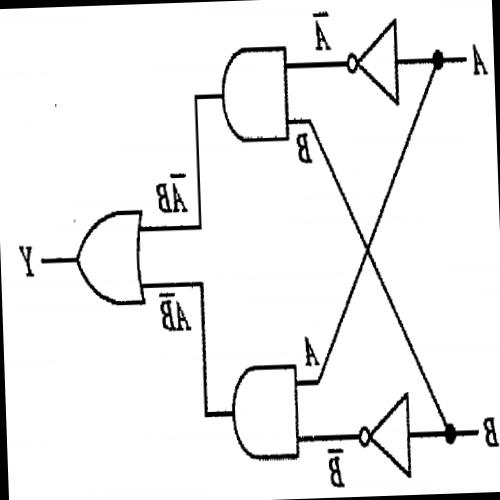and: (216, 34, 294, 150), (226, 358, 304, 466)
not: (354, 385, 416, 485), (342, 12, 402, 110)
or: (70, 201, 150, 312)
